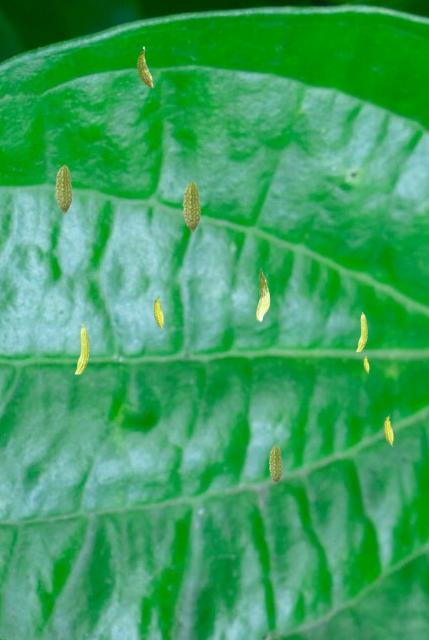ampalaya: (182, 180, 201, 232), (55, 164, 72, 214), (255, 266, 270, 322), (74, 323, 89, 374), (136, 46, 153, 88), (268, 444, 282, 484), (355, 311, 368, 352), (153, 295, 164, 330), (383, 413, 393, 447), (363, 353, 369, 374)
